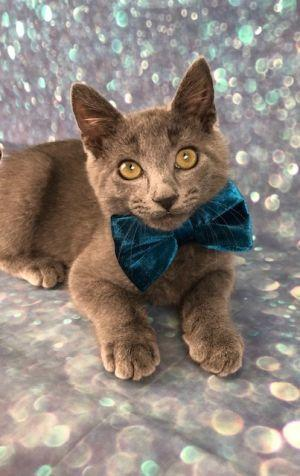rblue: (60, 43, 247, 245)
